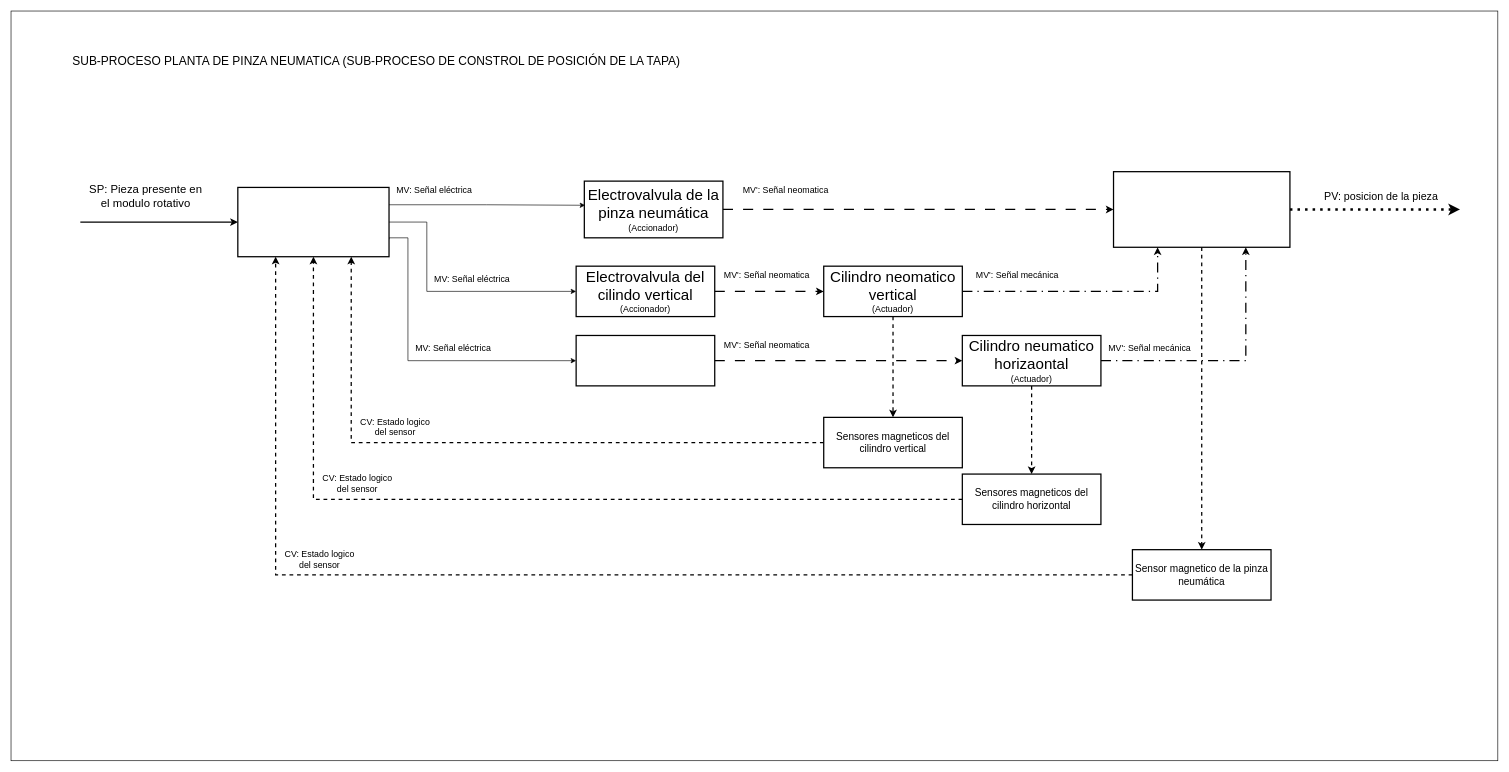
Image size: 1509x772. Some labels were removed from this diagram. Each missing label, with the centre of its shape:
CONTROLADOR PLC S7 200 CN: point 313,221
Electrovalvula del cilindo horizontal (Accionador): point 645,360
Pinza neumática (Planta): point 1201,209
